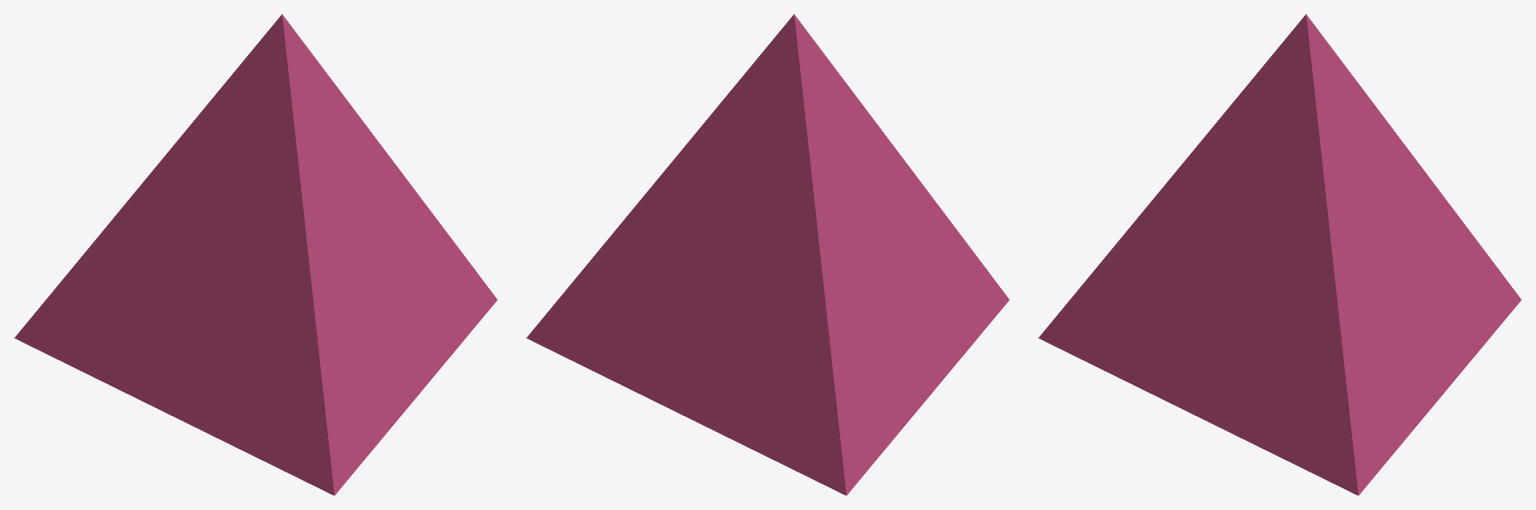
Rendered from Tetrahedron.glb.
The picture shows the model from 3 angles, left to right: view 1: azimuth 30°, elevation 25°; view 2: azimuth 150°, elevation 25°; view 3: azimuth 270°, elevation 25°; orthographic projection.
Visible parts, largest first — view 1: Tetrahedron; view 2: Tetrahedron; view 3: Tetrahedron.
Part boxes in pixels (left/top/right/bottom): Tetrahedron: left=14, top=14, right=497, bottom=495; Tetrahedron: left=526, top=14, right=1009, bottom=495; Tetrahedron: left=1038, top=14, right=1521, bottom=495.
Size of the model in its own units: 0.6244 by 0.5404 by 0.6505.
